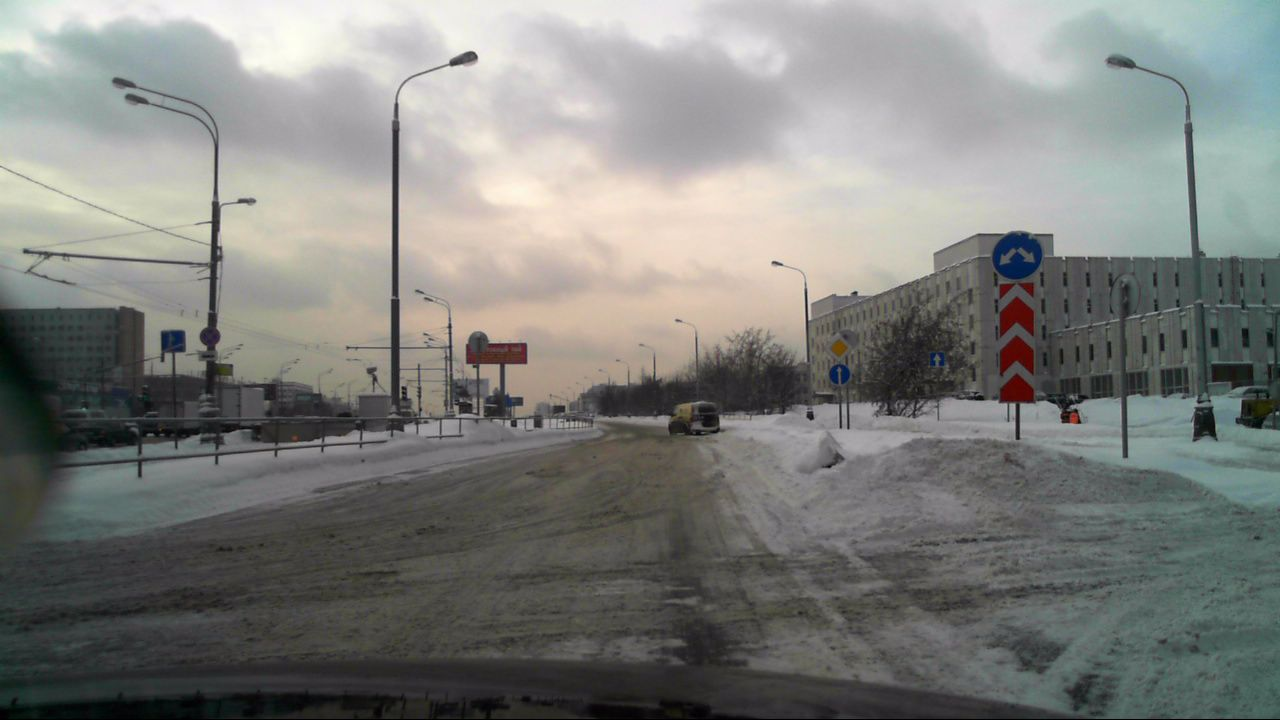No Parking: (198, 328, 219, 348)
